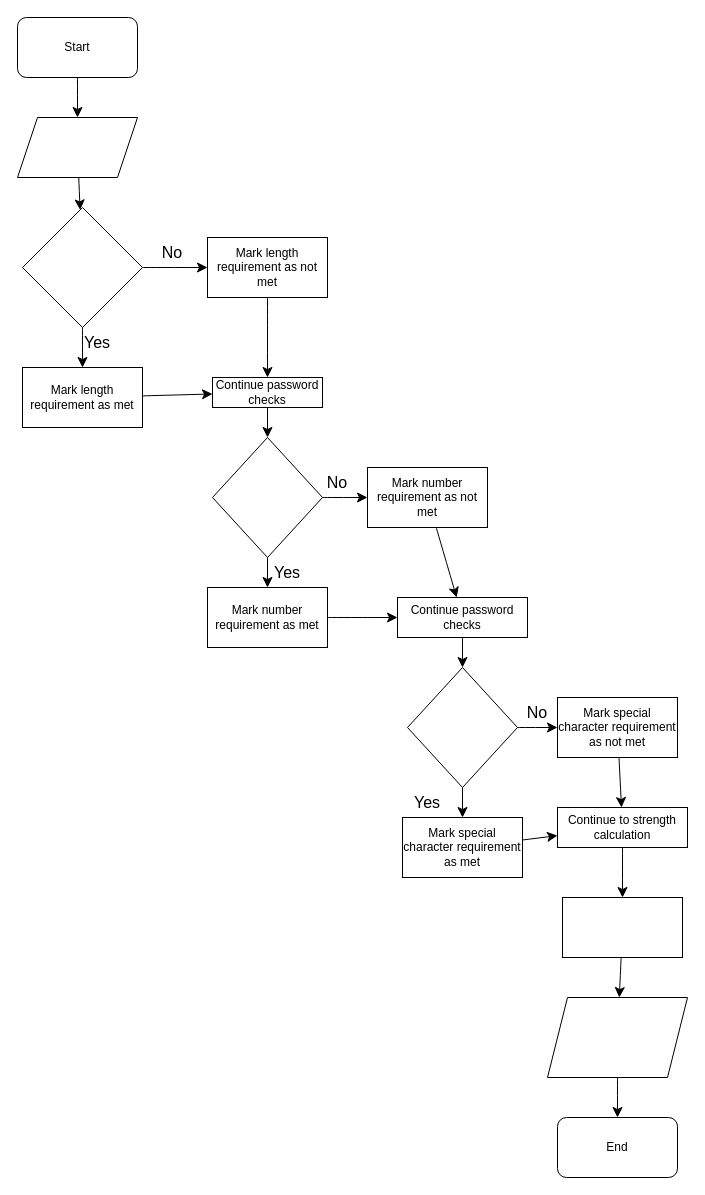
Some shapes in this 705 by 1195 pixel diagram are drawn without their labels. Here are the shapes that lost their labels. From the top down, the centre of each, then its label:
the point at 77,147: Enter Password
the point at 82,267: Is password at least 8 characters?
the point at 267,497: Does password contain a number?
the point at 462,727: Does password contain a special character?
the point at 622,927: Calculate strength based on requirements met
the point at 617,1037: Display password strength rating (Weak, Medium, or Strong)
